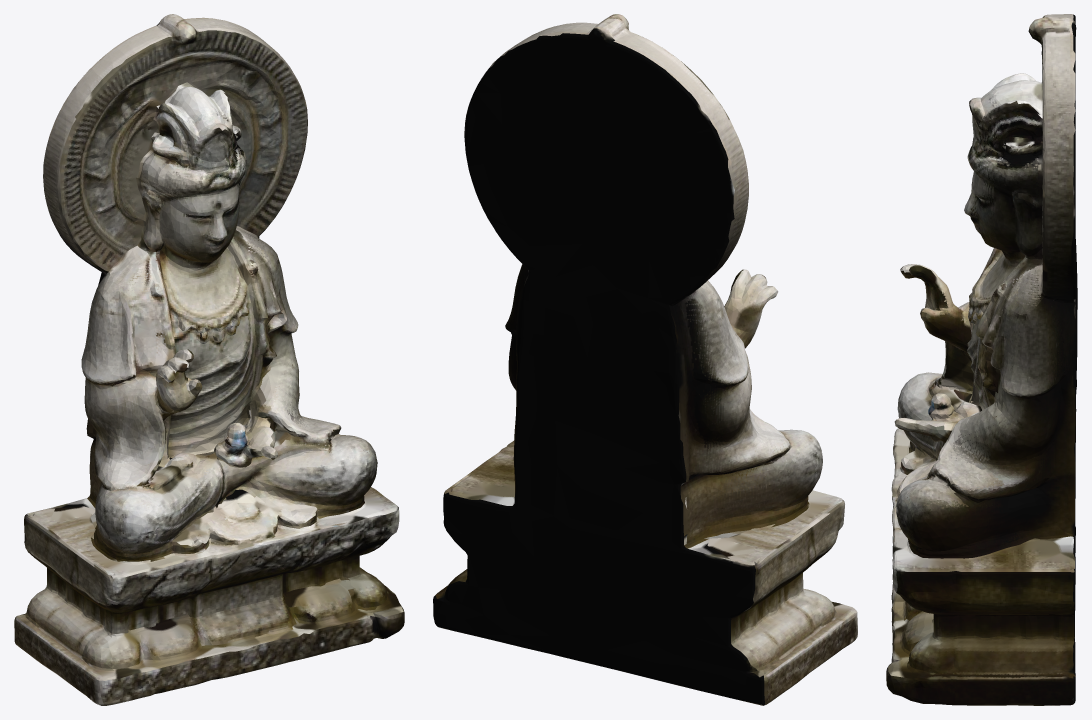
File: traveler_env_coast_kamen_sun_statue_00001_.glb
3 views of the same model, side by side, from view 1: azimuth 30°, elevation 25°; view 2: azimuth 150°, elevation 25°; view 3: azimuth 270°, elevation 25° (orthographic). The views are drawn at different scales.
Visible parts, largest first — view 1: temp_mesh.ply; view 2: temp_mesh.ply; view 3: temp_mesh.ply.
Boxes of the visible parts, <box> form: temp_mesh.ply: <box>14,14,404,705</box>; temp_mesh.ply: <box>433,14,857,705</box>; temp_mesh.ply: <box>886,14,1077,705</box>.
Size of the model in its own units: 1.09 by 1.97 by 0.562.
1 material, 1 textured.
